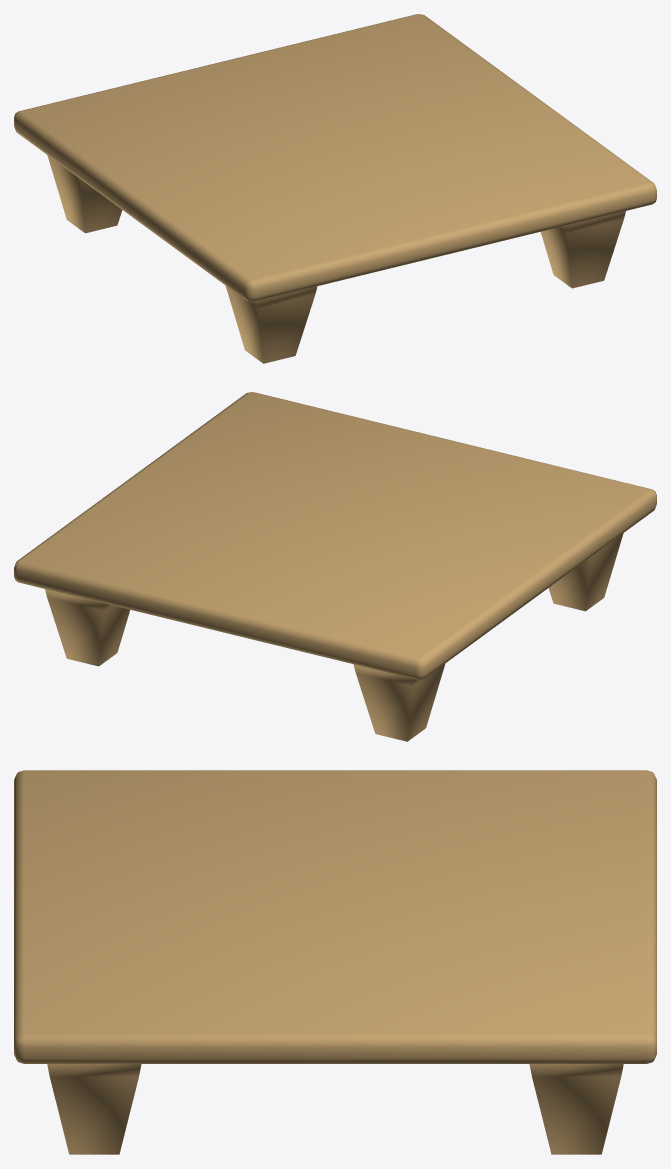
File: coffee table.fbx
3 views of the same model, one above another, from view 1: azimuth 30°, elevation 25°; view 2: azimuth 150°, elevation 25°; view 3: azimuth 270°, elevation 25° (orthographic). The views are drawn at different scales.
Parts seen in each view (by area): view 1: Cube; view 2: Cube; view 3: Cube.
Part boxes in pixels (box(x1,y1,x2,y2)): Cube: box(14, 14, 656, 363); Cube: box(14, 392, 656, 741); Cube: box(14, 770, 656, 1154).
Bounding box in the file's own units: 179 × 42.99 × 179.
